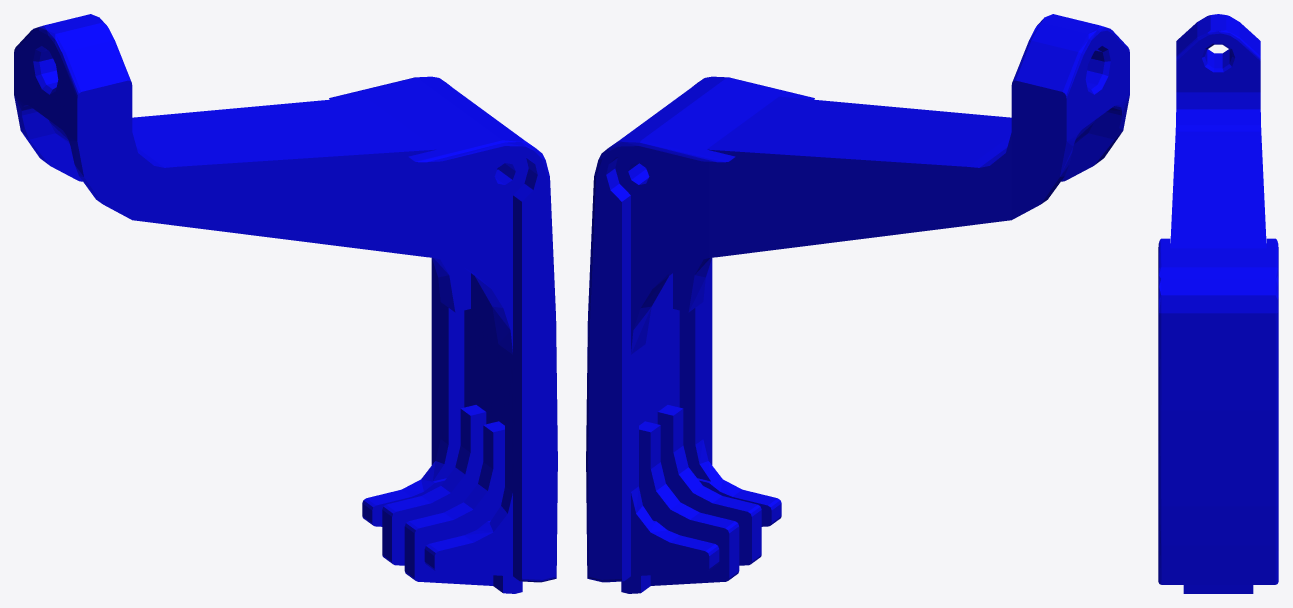
File: push_latch_handle.obj
3 views of the same model, side by side, from view 1: azimuth 30°, elevation 25°; view 2: azimuth 150°, elevation 25°; view 3: azimuth 270°, elevation 25° (orthographic). The views are drawn at different scales.
Size of the model in its own units: 0.0598 by 0.0795 by 0.02.
